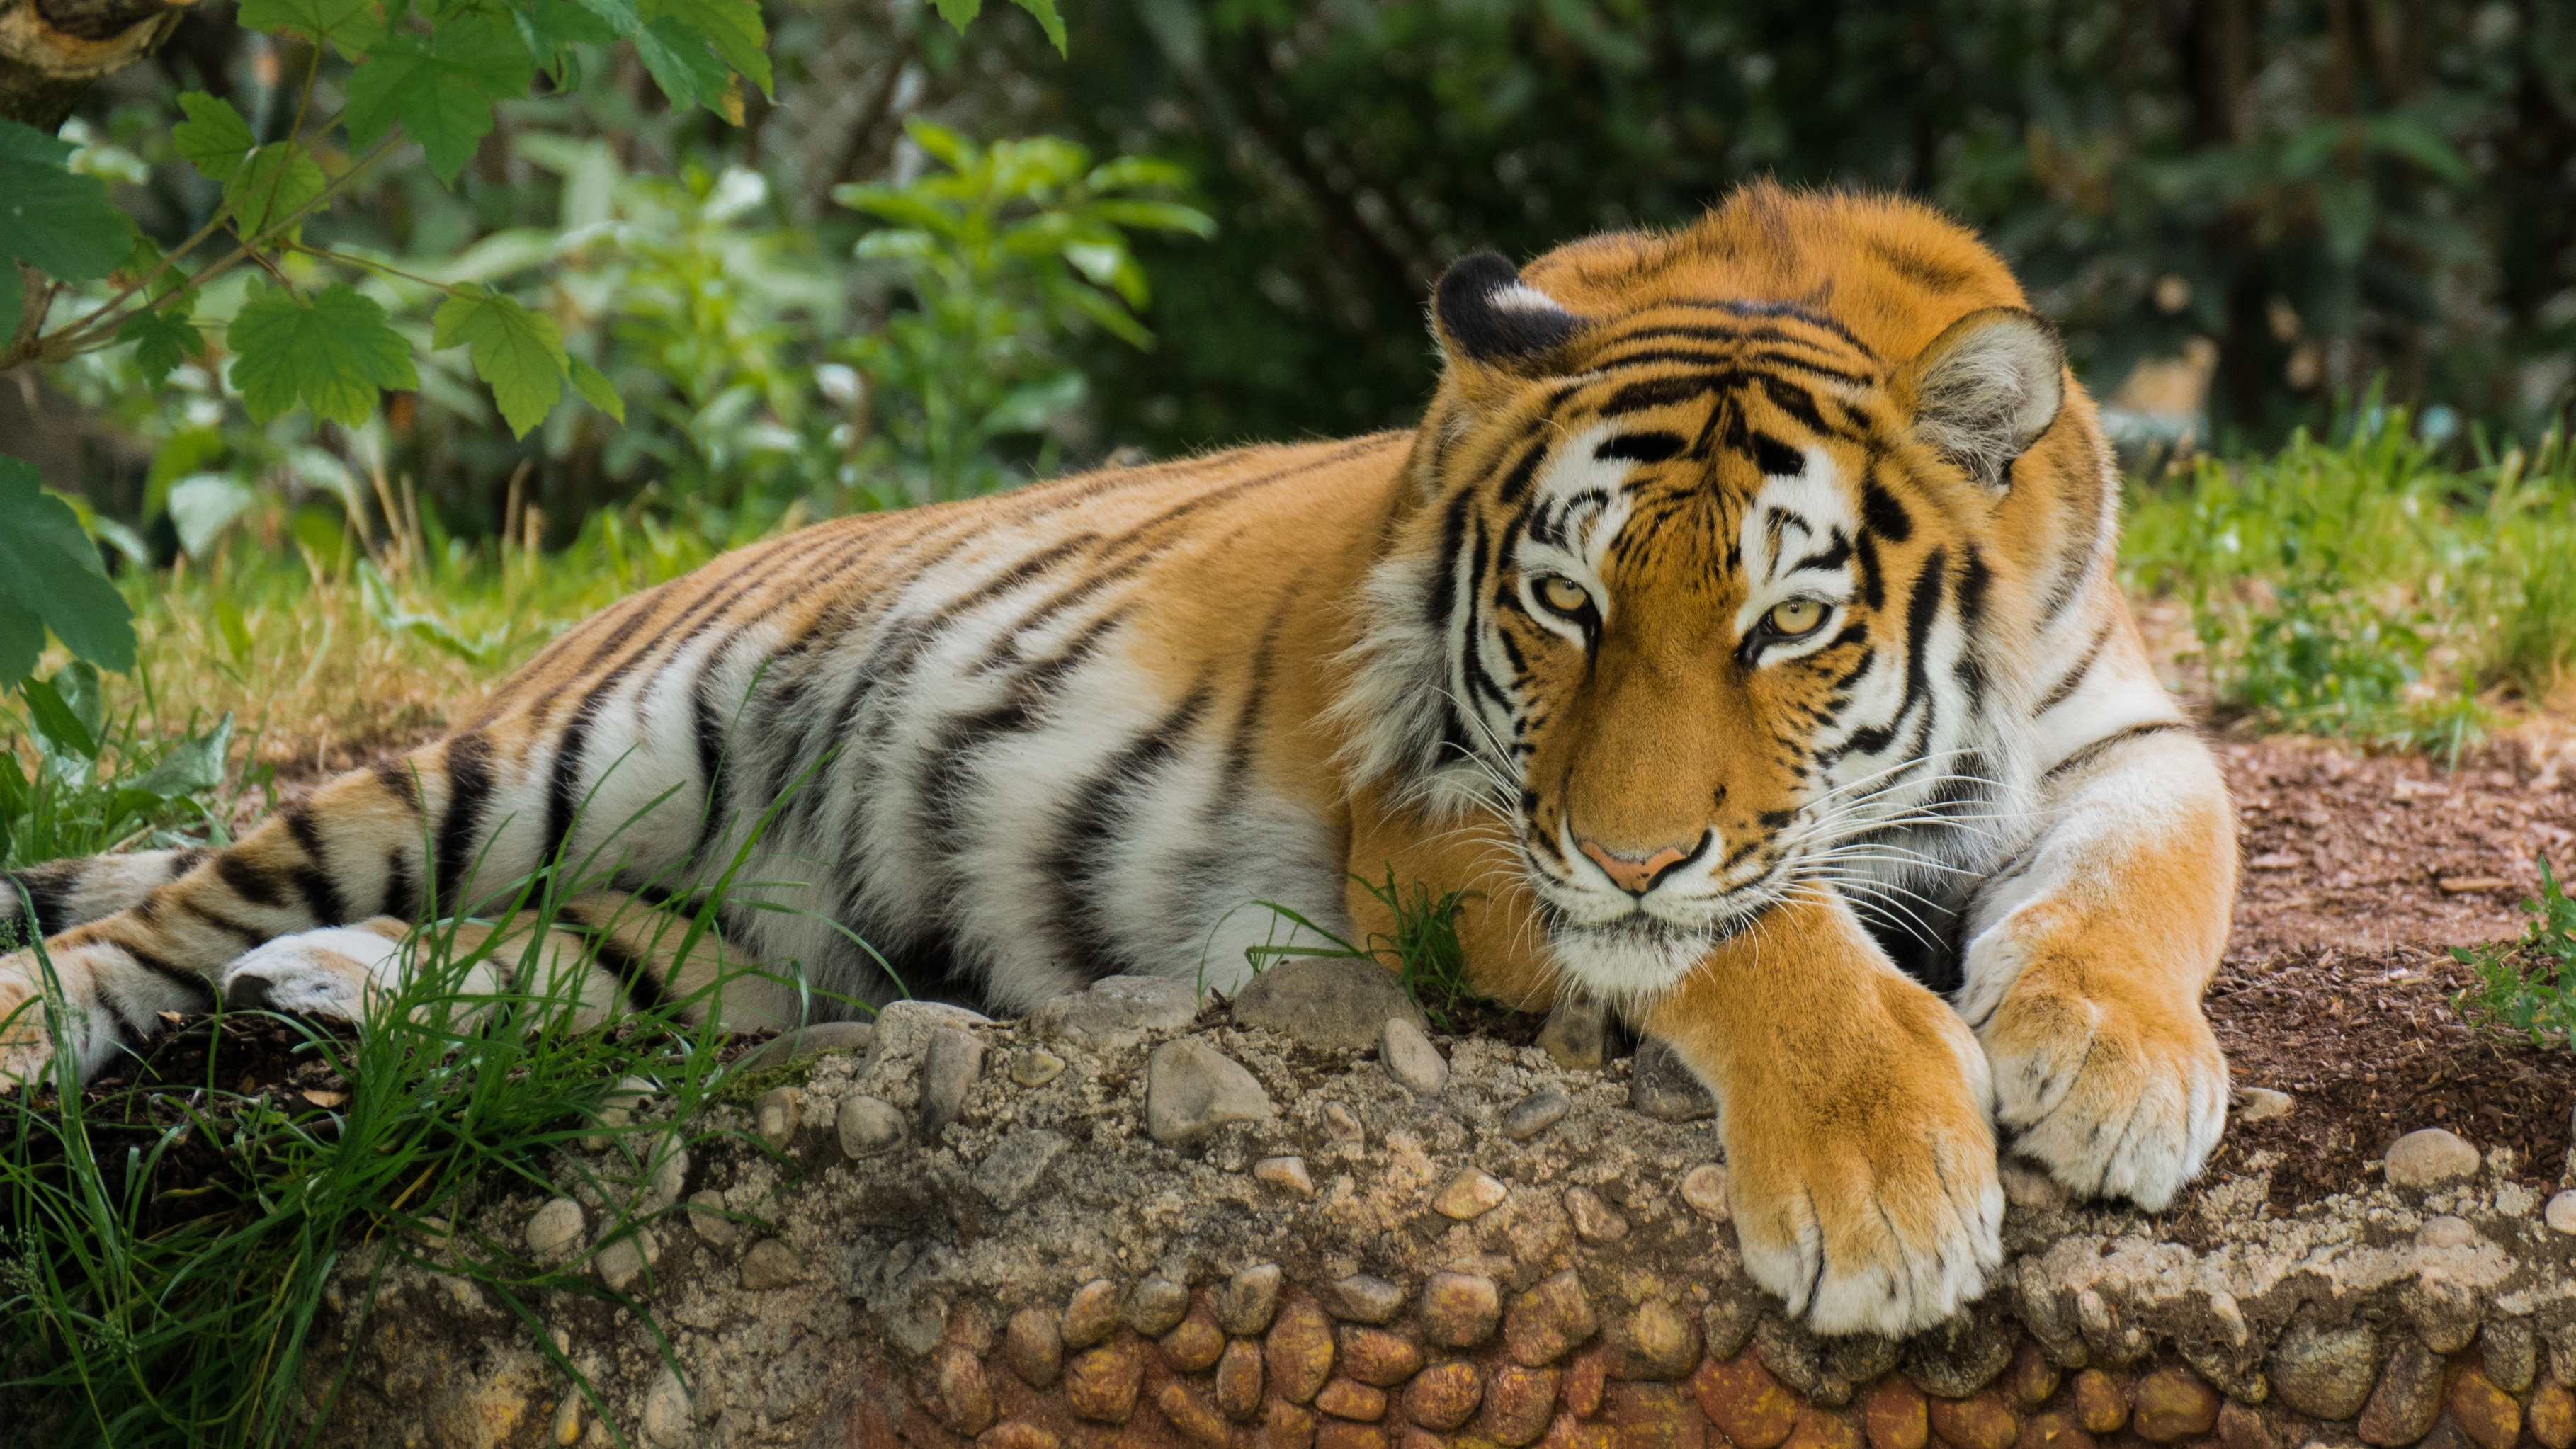tiger: (218, 212, 2296, 1304)
